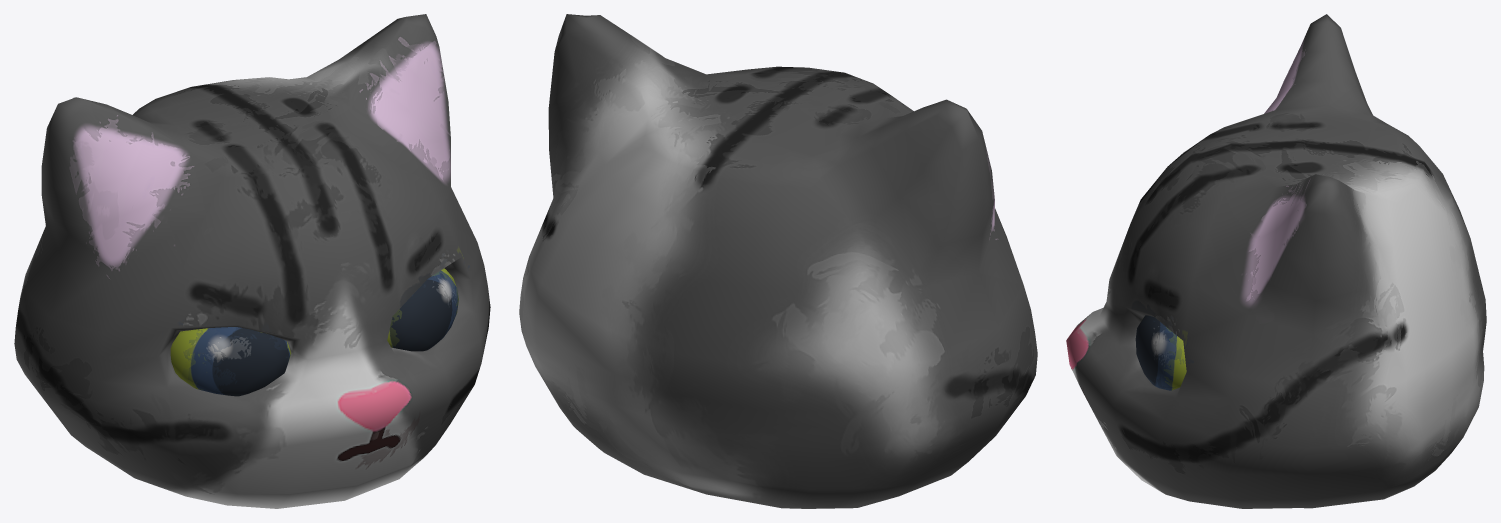
Rendered from Oreo.fbx.
3 renders of one model, left to right at view 1: azimuth 30°, elevation 25°; view 2: azimuth 150°, elevation 25°; view 3: azimuth 270°, elevation 25°, orthographic. The views are drawn at different scales.
Visible parts, largest first — view 1: Oreo; view 2: Oreo; view 3: Oreo.
Part boxes in pixels (x1,y1,x2,y2): Oreo: [14, 14, 490, 508]; Oreo: [519, 14, 1037, 508]; Oreo: [1066, 14, 1486, 508].
Size of the model in its own units: 116 by 99.97 by 104.
